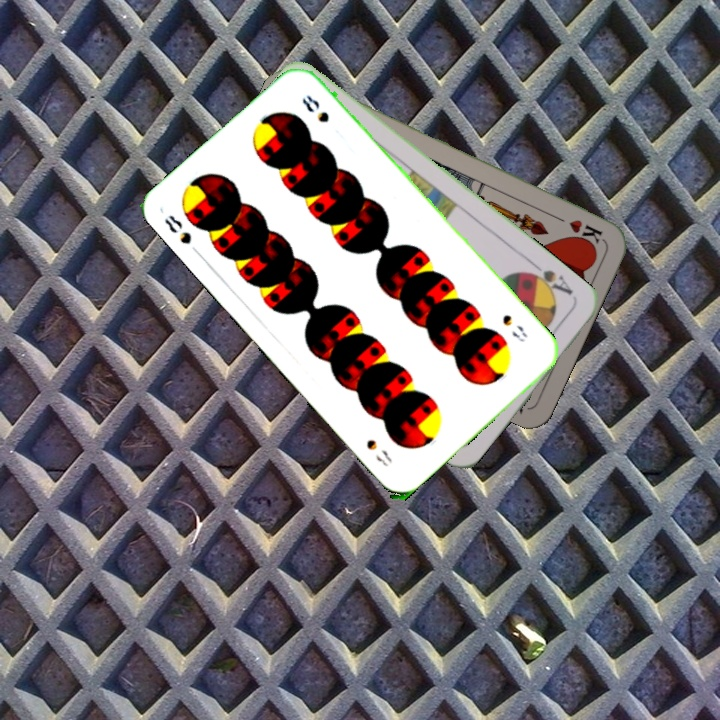HK: (549, 211, 605, 246)
S8: (160, 211, 194, 247), (498, 310, 530, 345)
SA: (522, 259, 576, 299)
